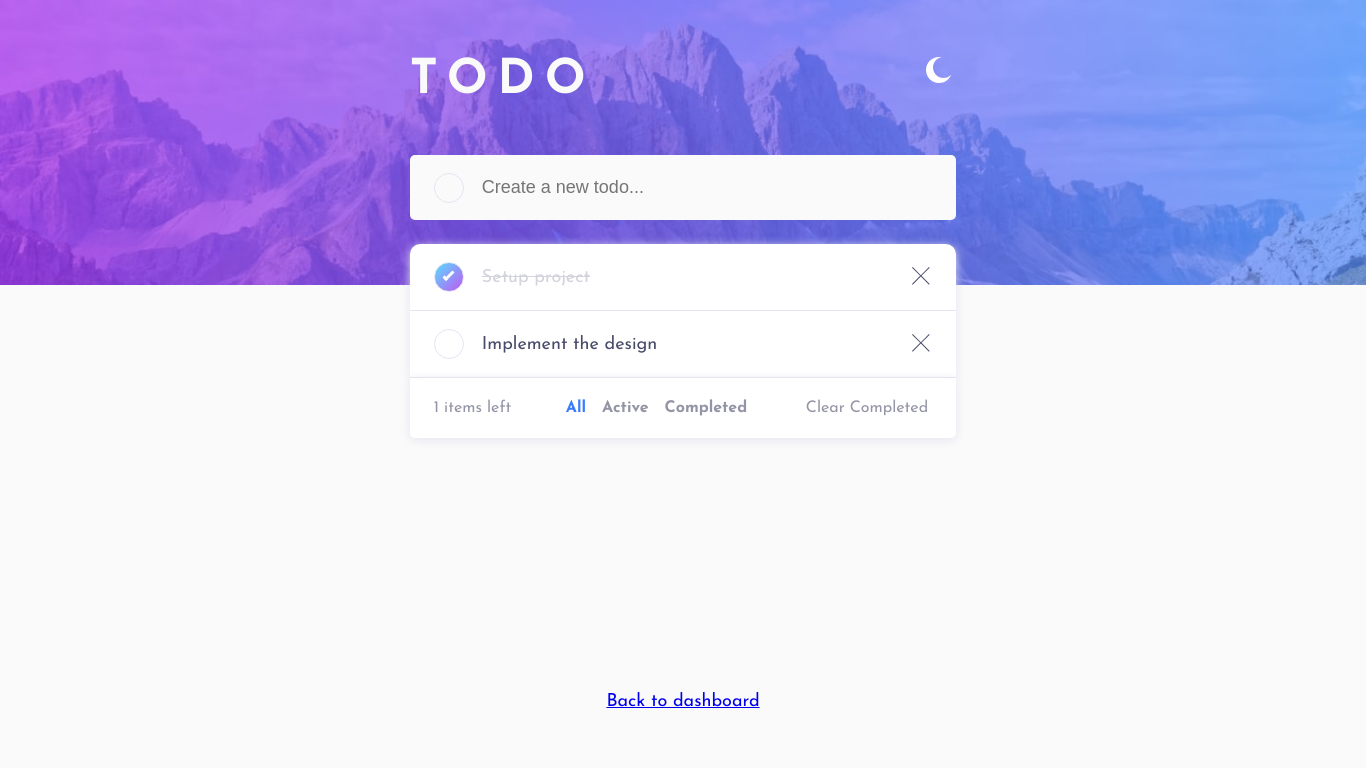
Test: Todo › should render the newly added todo
The width and height of the screenshot is (1366, 768).
Expected: the number of elements with class "todo-list__item" is 2, [434,262,932,292]; [434,329,932,359]
Type "Finish mini project 1" into the field named "todo-input-element".
click(707, 188); type("Finish mini project 1")  # box [482,171,932,204]
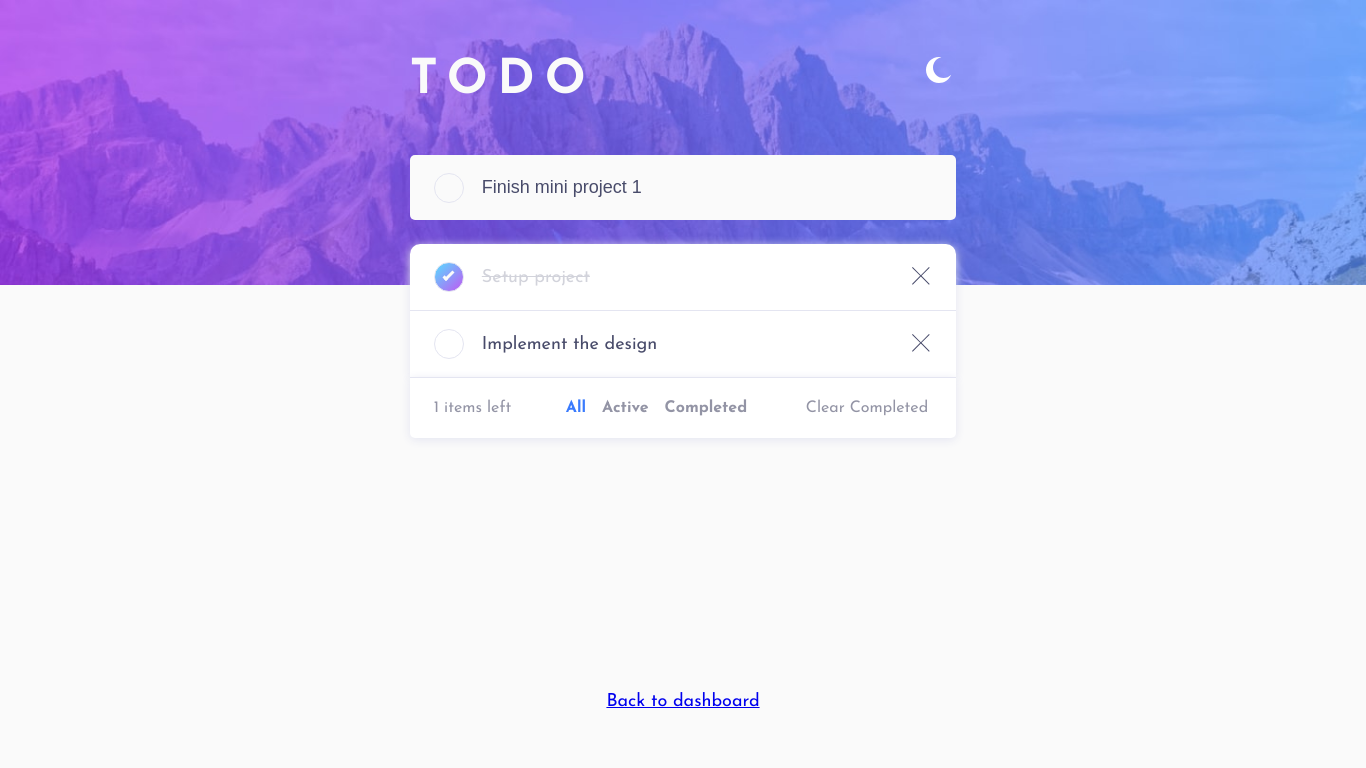
Press Enter in the field named "todo-input-element", box [482,171,932,204]
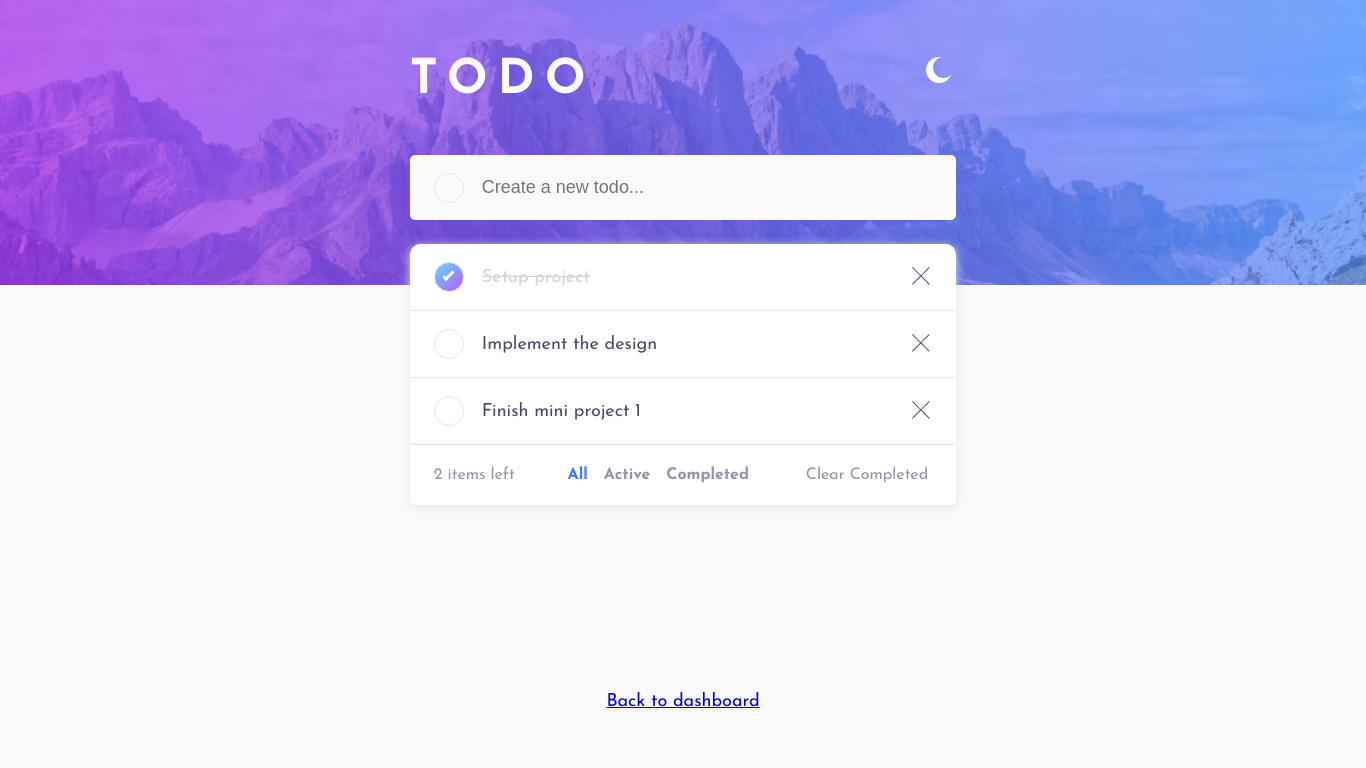
Expected: the text "Finish mini project 1" is shown, [482,402,641,421]
Expected: the number of elements with class "todo-list__item" is 3, [434,262,932,292]; [434,329,932,359]; [434,396,932,426]
